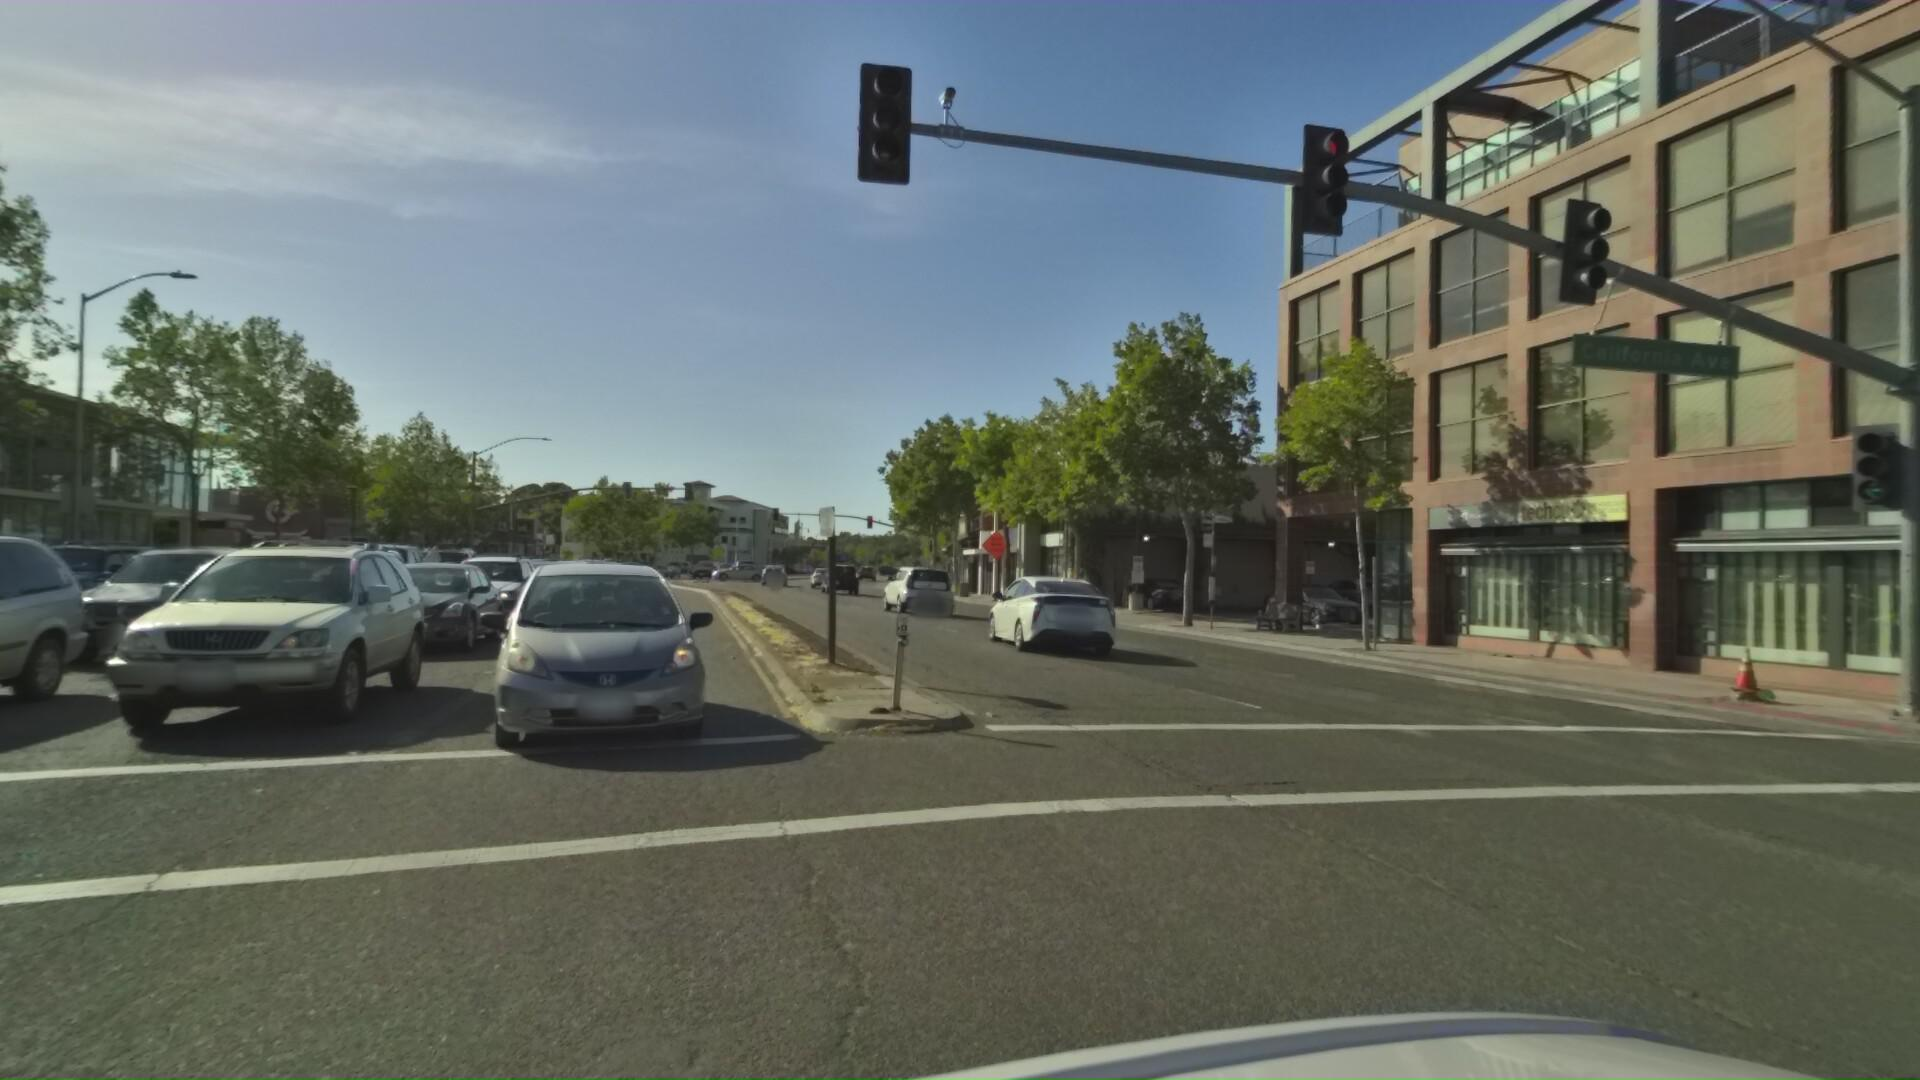car: (61, 512, 436, 738), (467, 558, 702, 767), (9, 534, 302, 669), (319, 554, 510, 658), (280, 531, 464, 630), (972, 568, 1113, 655), (425, 545, 549, 632), (1258, 576, 1379, 629), (392, 541, 485, 605), (505, 555, 589, 615), (876, 560, 956, 617), (531, 556, 609, 603), (1126, 572, 1201, 612), (568, 555, 621, 597), (580, 556, 633, 596), (611, 556, 680, 584), (822, 558, 865, 596), (705, 560, 767, 585), (762, 560, 793, 589)
